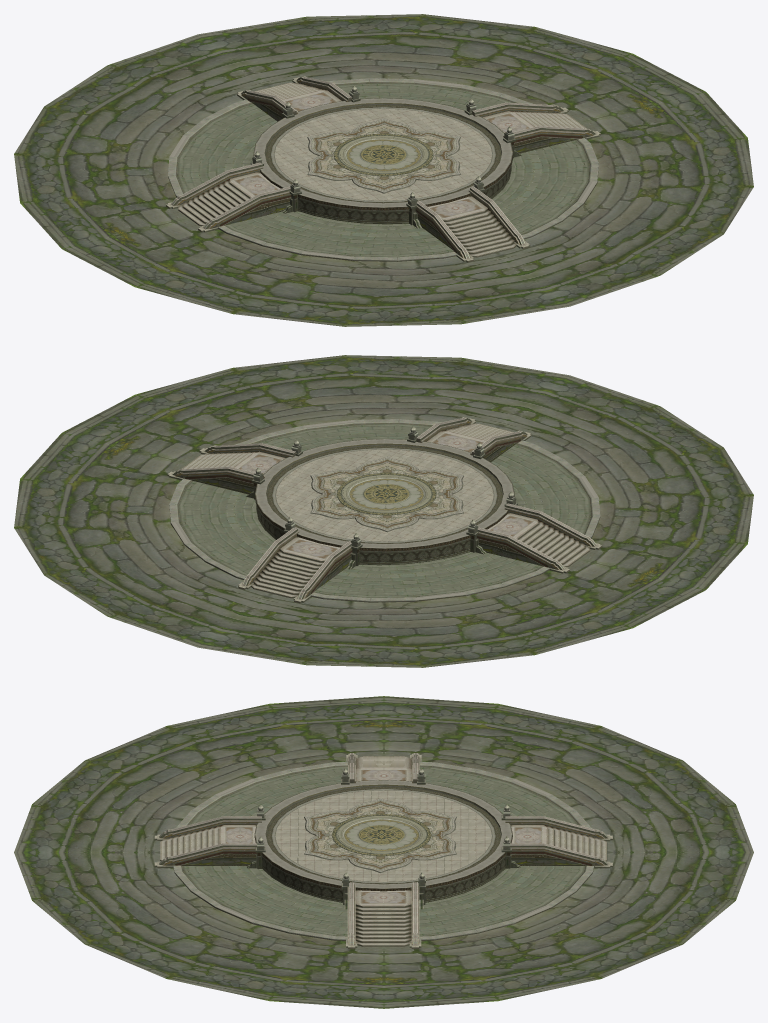
The picture shows the model from 3 angles, top to bottom: view 1: azimuth 30°, elevation 25°; view 2: azimuth 150°, elevation 25°; view 3: azimuth 270°, elevation 25°; orthographic projection.
Parts seen in each view (by area): view 1: A_jz_06; view 2: A_jz_06; view 3: A_jz_06.
Part boxes in pixels (left/top/right/bottom): A_jz_06: left=14, top=14, right=753, bottom=326; A_jz_06: left=14, top=355, right=753, bottom=667; A_jz_06: left=14, top=696, right=753, bottom=1008.
Bounding box in the file's own units: 353 × 18.91 × 353.
